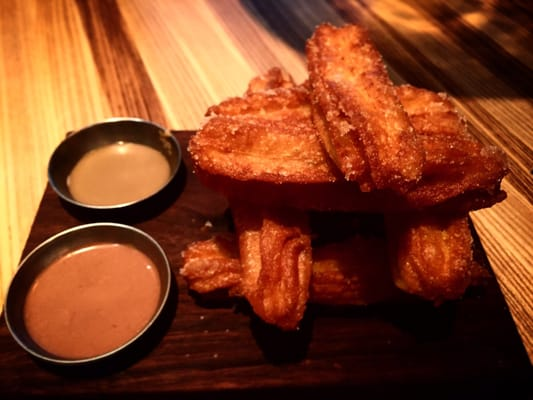soup: (187, 21, 507, 218)
sushi: (2, 222, 179, 377), (47, 118, 186, 227)
